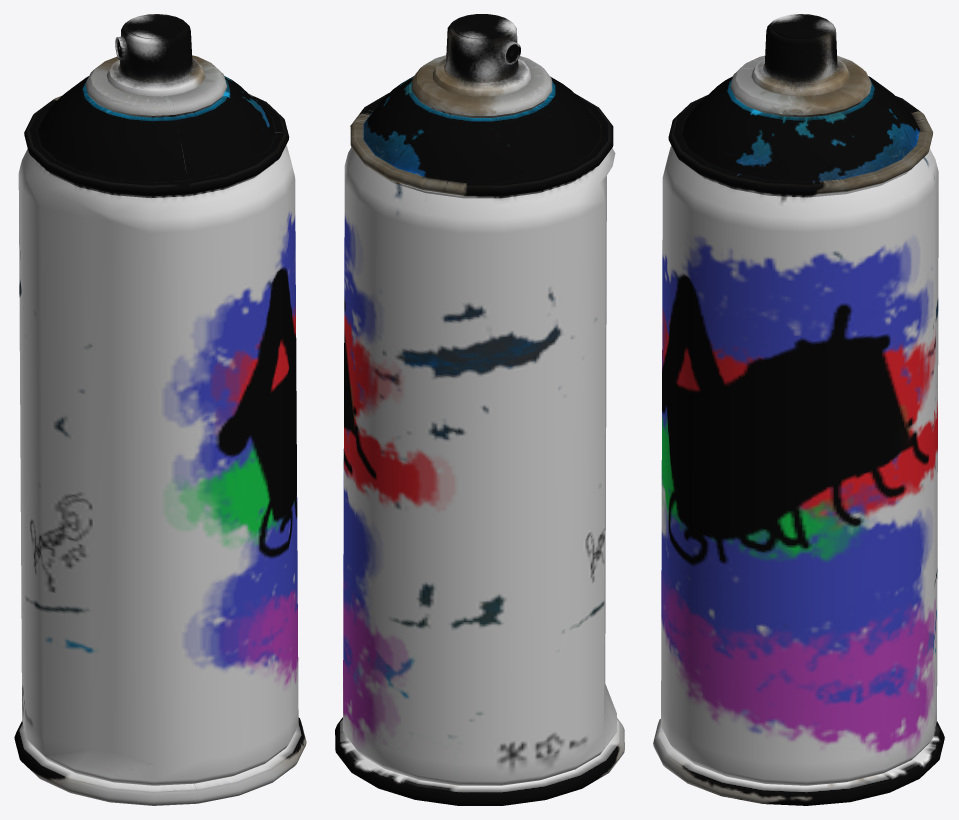
The model's file is spray.glb.
3 views of the same model, side by side, from view 1: azimuth 30°, elevation 25°; view 2: azimuth 150°, elevation 25°; view 3: azimuth 270°, elevation 25° (orthographic).
Parts seen in each view (by area): view 1: node_id32_1; view 2: node_id32_1; view 3: node_id32_1.
Boxes of the visible parts, bbox=[...] form: node_id32_1: bbox=[14, 14, 306, 805]; node_id32_1: bbox=[335, 14, 624, 805]; node_id32_1: bbox=[653, 14, 944, 805].
Size of the model in its own units: 0.1883 by 0.5126 by 0.1883.
1 material, 1 textured.
